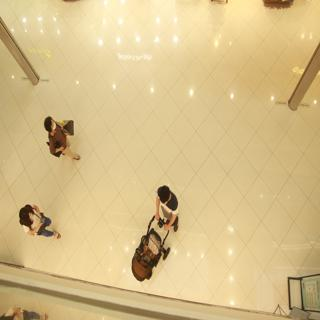person: (35, 112, 92, 169), (141, 172, 194, 225), (15, 198, 63, 246)
